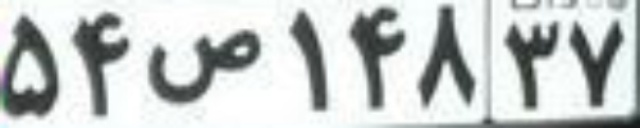1: (286, 9, 327, 110)
3: (502, 19, 560, 109)
4: (346, 5, 405, 109), (70, 12, 129, 115)
5: (0, 16, 65, 117)
7: (568, 19, 627, 109)
8: (415, 5, 478, 107)
saat: (145, 29, 263, 102)
